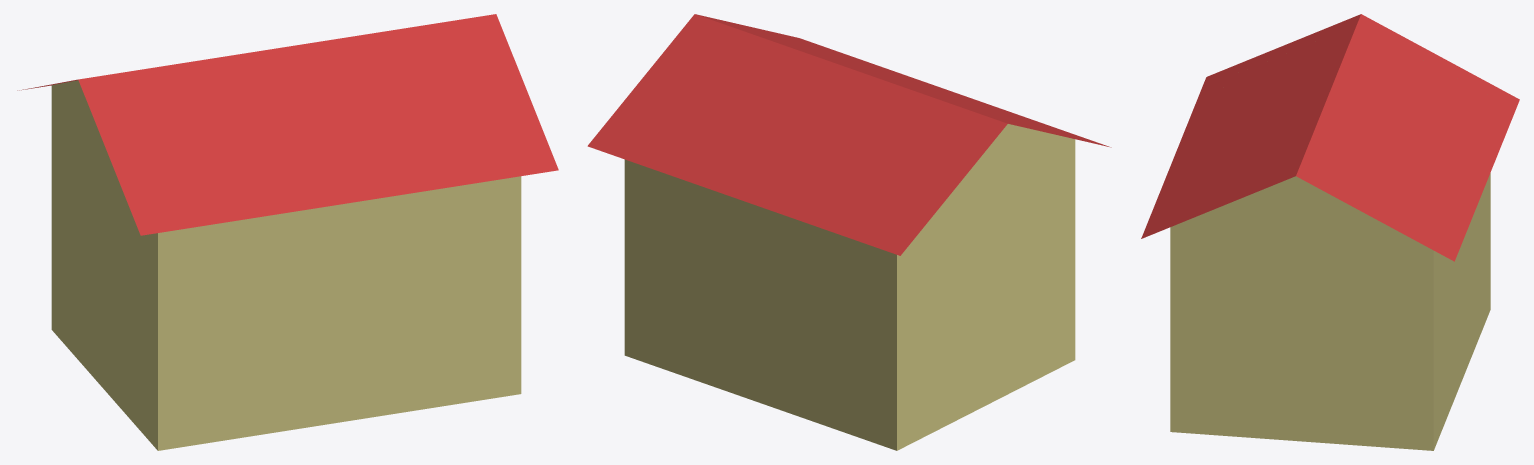
The picture shows the model from 3 angles, left to right: view 1: azimuth 30°, elevation 25°; view 2: azimuth 150°, elevation 25°; view 3: azimuth 270°, elevation 25°; orthographic projection. The views are drawn at different scales.
Bounding box in the file's own units: 17.14 × 14.86 × 11.93.
